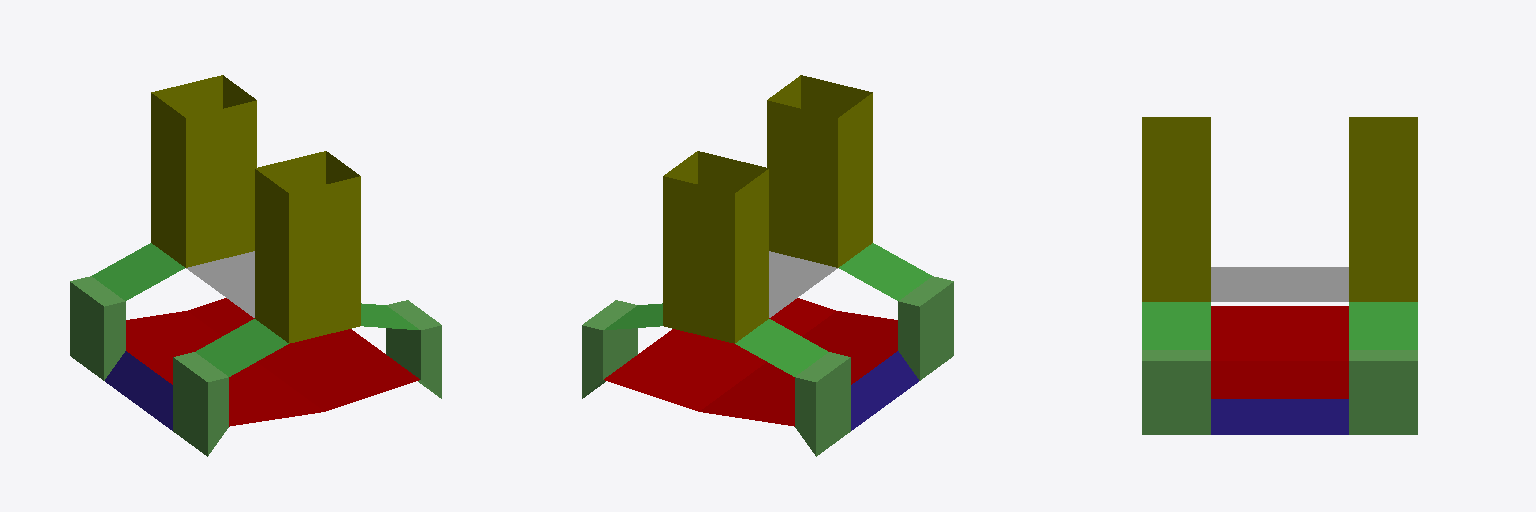
The model's file is bridge2.obj.
3 renders of one model, left to right at view 1: azimuth 30°, elevation 25°; view 2: azimuth 150°, elevation 25°; view 3: azimuth 270°, elevation 25°, orthographic.
Visible parts, largest first — view 1: Plane.008; view 2: Plane.008; view 3: Plane.008.
Part boxes in pixels (x1,y1,x2,y2): Plane.008: (70,75,441,456); Plane.008: (582,75,953,456); Plane.008: (1142,117,1417,434).
Size of the model in its own units: 196 by 194 by 200.